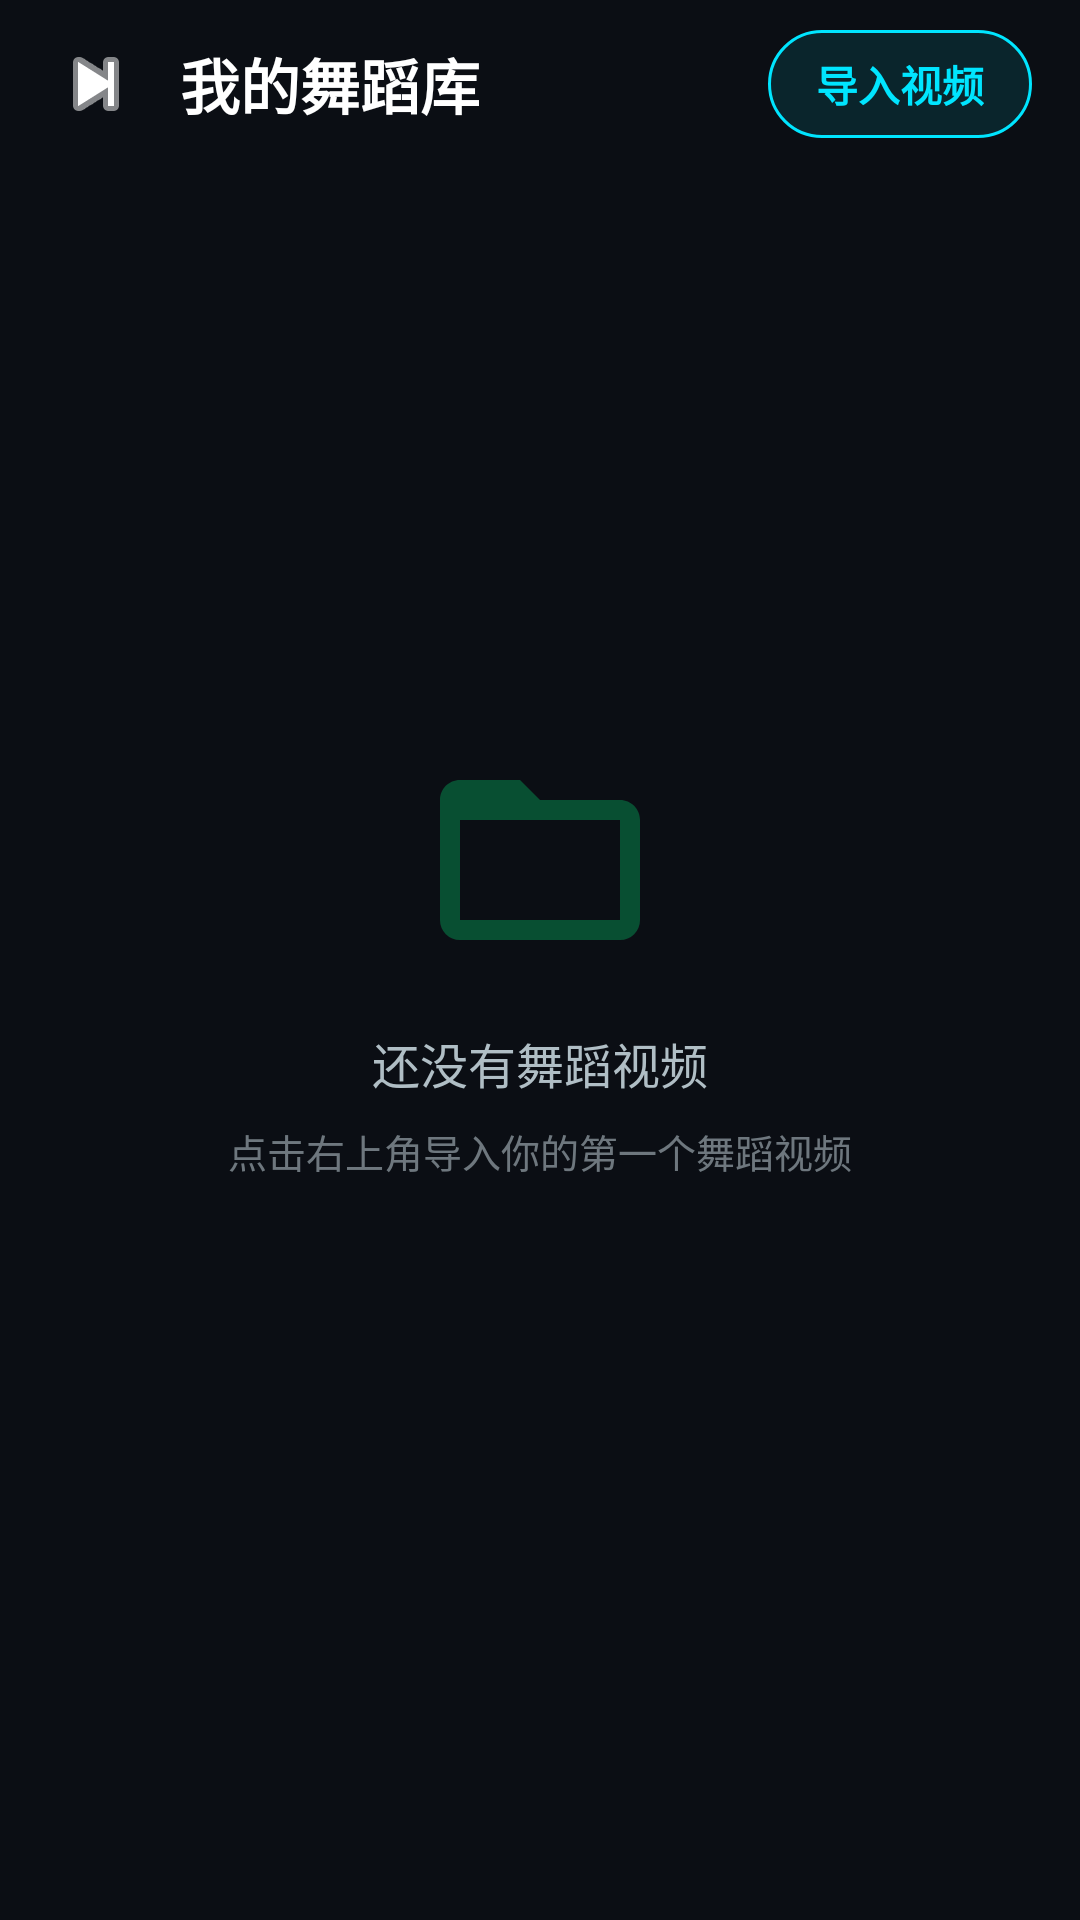

Screen size 1080px×1920px. Icon name, then its box in pixels as (x1, y1, x2, y2):
舞蹈库: (440, 780, 640, 940)
